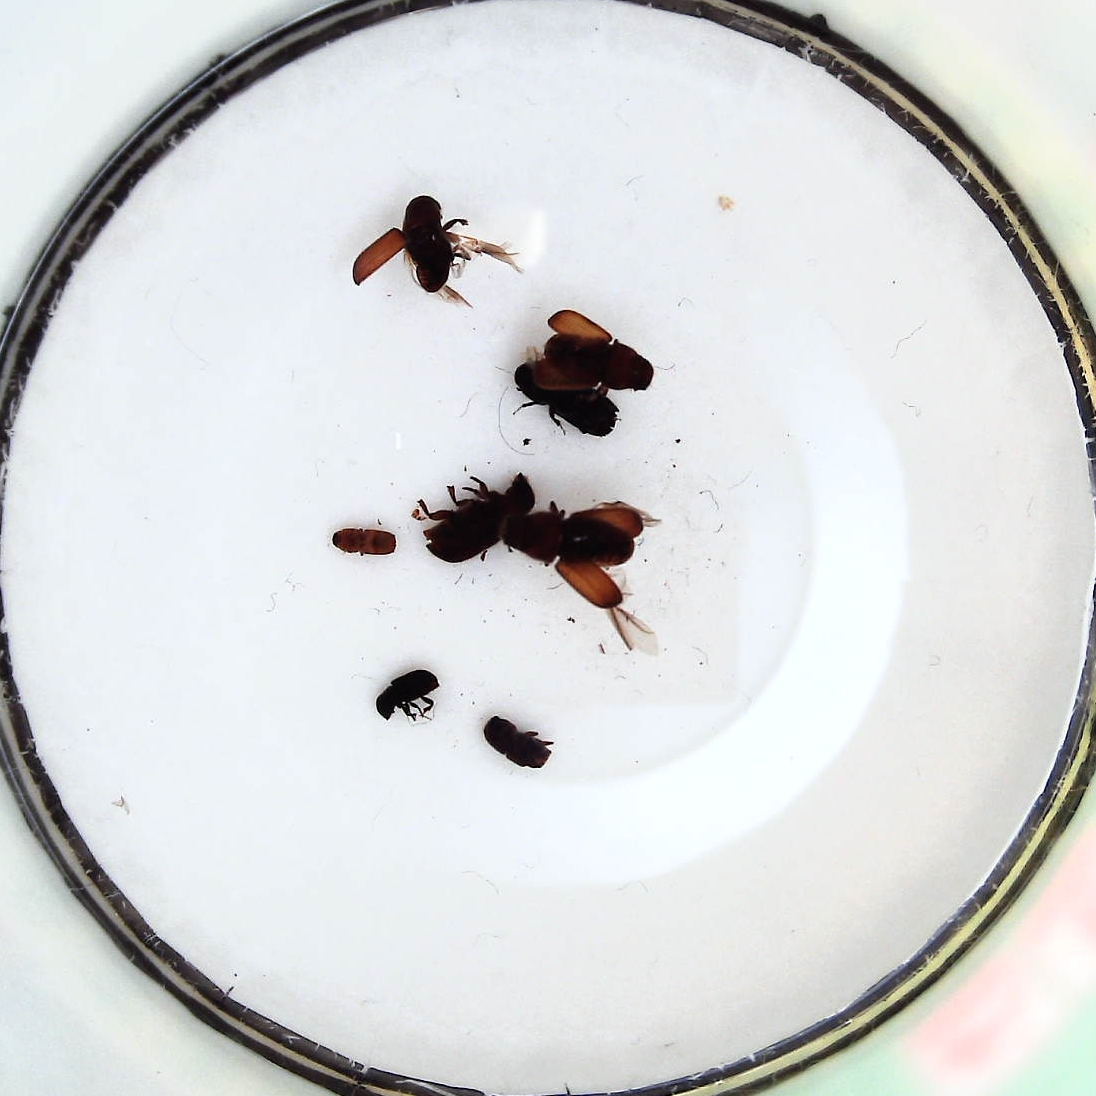Boerner: (514, 364, 620, 437)
Leconte: (502, 503, 658, 650), (351, 195, 522, 315), (419, 475, 534, 565), (537, 307, 653, 393)
Linnaeus: (483, 714, 556, 772)
acuminatus: (333, 528, 399, 558)
armandi: (373, 666, 442, 725)
